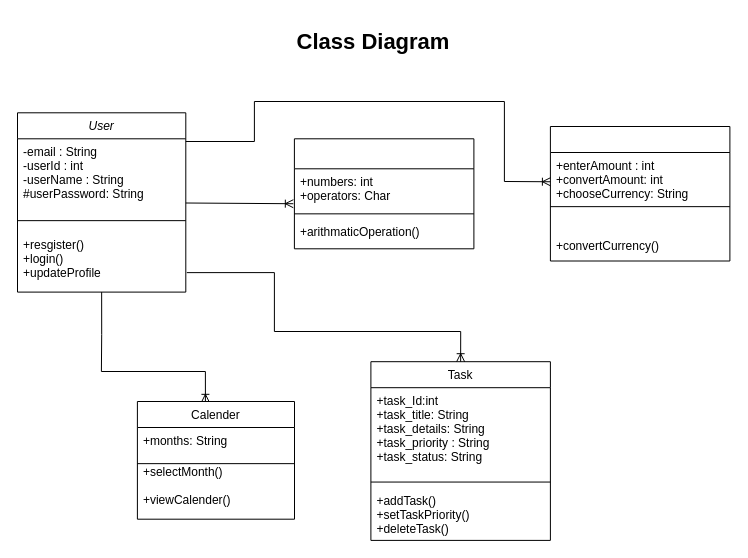
Some shapes in this 748 by 558 pixel diagram are drawn without their labels. The box of each missing label's shape, as (x1, y1, x2, y2) in pixels:
Calculator: (293, 138, 474, 249)
Currency Converter: (549, 126, 730, 261)
